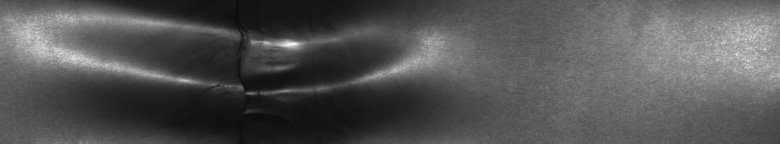ke: (89, 12, 405, 113)
